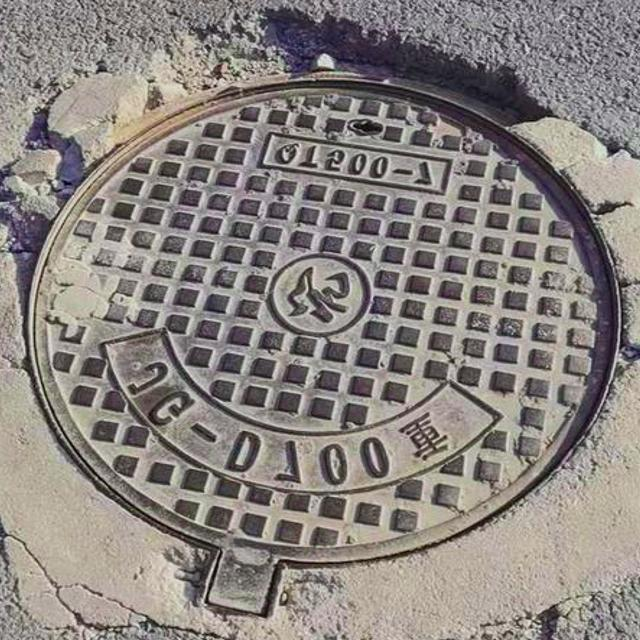circle: (0, 26, 640, 640)
